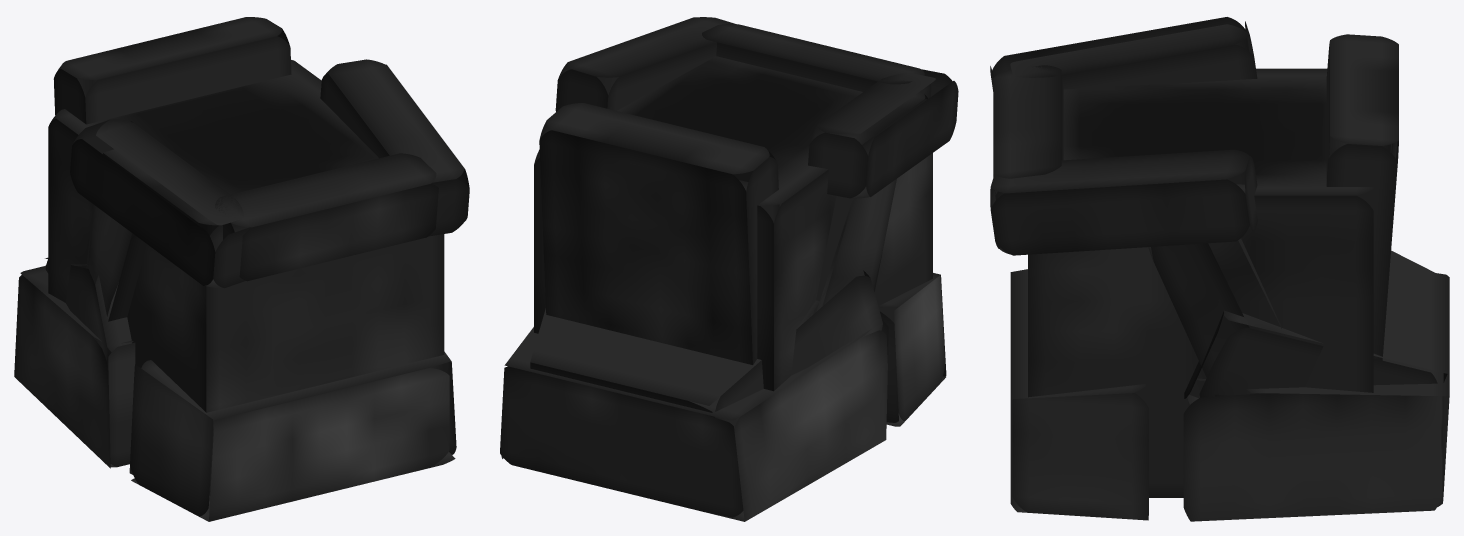
File: civilian_medic_b_l.obj
3 renders of one model, left to right at view 1: azimuth 30°, elevation 25°; view 2: azimuth 150°, elevation 25°; view 3: azimuth 270°, elevation 25°, orthographic. The views are drawn at different scales.
Visible parts, largest first — view 1: cube; view 2: cube; view 3: cube.
Part boxes in pixels (<box>): cube: <box>14,17,469,521</box>; cube: <box>500,17,958,521</box>; cube: <box>990,17,1449,521</box>.
Size of the model in its own units: 0.3519 by 0.3565 by 0.4171.
